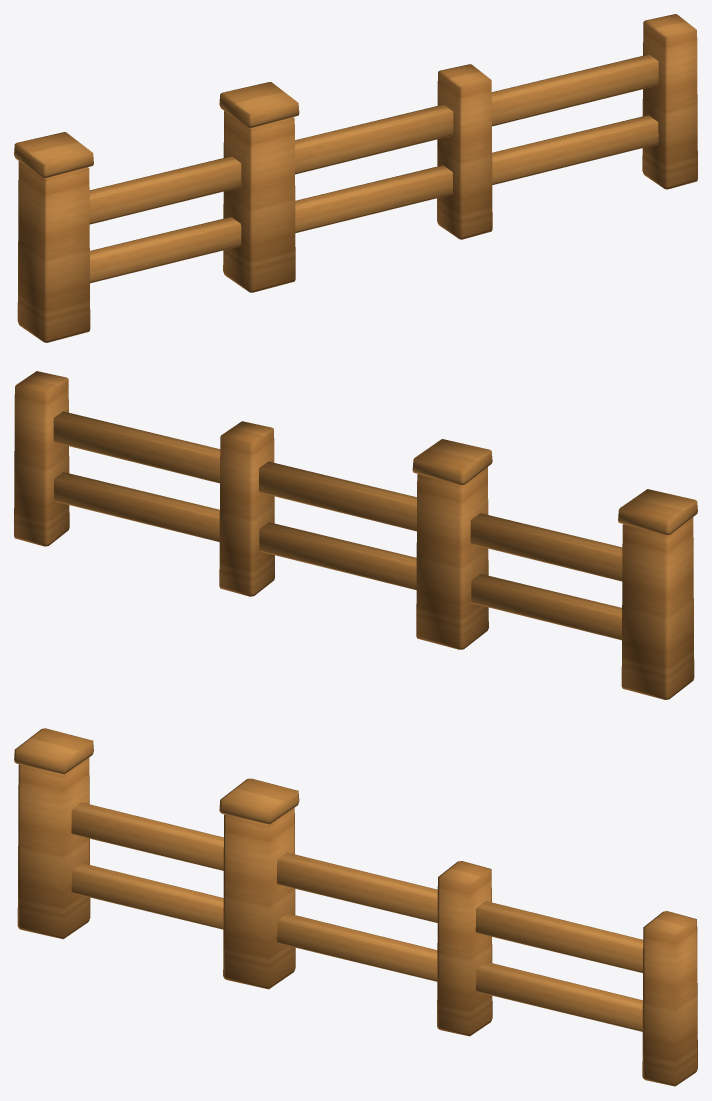
The model's file is 28_fence_long_light.glb.
3 views of the same model, one above another, from view 1: azimuth 30°, elevation 25°; view 2: azimuth 150°, elevation 25°; view 3: azimuth 330°, elevation 25° (orthographic).
Visible parts, largest first — view 1: Post_0, Post_1, Post_3, Post_2, RailUpper_2, RailUpper_1, RailLower_2, RailUpper_0, RailLower_1, RailLower_0, PostCap_0, PostCap_1; view 2: Post_0, Post_1, Post_3, Post_2, RailUpper_2, RailUpper_1, RailLower_2, RailUpper_0, RailLower_1, RailLower_0, PostCap_0, PostCap_1; view 3: Post_1, Post_0, Post_3, Post_2, RailUpper_2, RailUpper_1, RailLower_2, RailUpper_0, RailLower_1, RailLower_0, PostCap_0, PostCap_1.
Part boxes in pixels (x1,y1,x2,y2): Post_0: [17, 161, 90, 342]; Post_1: [223, 111, 295, 292]; Post_3: [642, 14, 697, 189]; Post_2: [437, 64, 492, 239]; RailUpper_2: [491, 54, 658, 126]; RailUpper_1: [295, 104, 453, 174]; RailLower_2: [492, 115, 658, 184]; RailUpper_0: [89, 156, 241, 224]; RailLower_1: [295, 165, 453, 233]; RailLower_0: [90, 217, 241, 283]; PostCap_0: [14, 132, 93, 177]; PostCap_1: [219, 82, 299, 127]; Post_0: [621, 517, 694, 699]; Post_1: [416, 467, 488, 649]; Post_3: [14, 371, 69, 546]; Post_2: [219, 421, 274, 596]; RailUpper_2: [53, 411, 220, 483]; RailUpper_1: [259, 461, 416, 531]; RailLower_2: [54, 472, 219, 541]; RailUpper_0: [470, 513, 622, 581]; RailLower_1: [259, 522, 416, 590]; RailLower_0: [471, 574, 621, 640]; PostCap_0: [618, 489, 697, 535]; PostCap_1: [412, 439, 492, 484]; Post_1: [223, 808, 295, 989]; Post_0: [17, 757, 90, 939]; Post_3: [642, 911, 697, 1086]; Post_2: [437, 861, 492, 1036]; RailUpper_2: [475, 901, 643, 972]; RailUpper_1: [277, 852, 437, 922]; RailLower_2: [476, 962, 642, 1031]; RailUpper_0: [71, 802, 223, 870]; RailLower_1: [277, 913, 437, 981]; RailLower_0: [71, 863, 223, 929]; PostCap_0: [14, 728, 93, 774]; PostCap_1: [219, 778, 299, 824].
Size of the model in its own units: 2.32 by 0.6125 by 0.186.
Materials: 2 (2 with a texture image).
